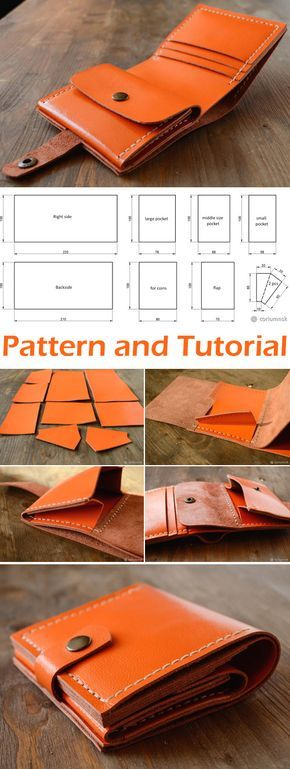cuero: (2, 5, 290, 751)
